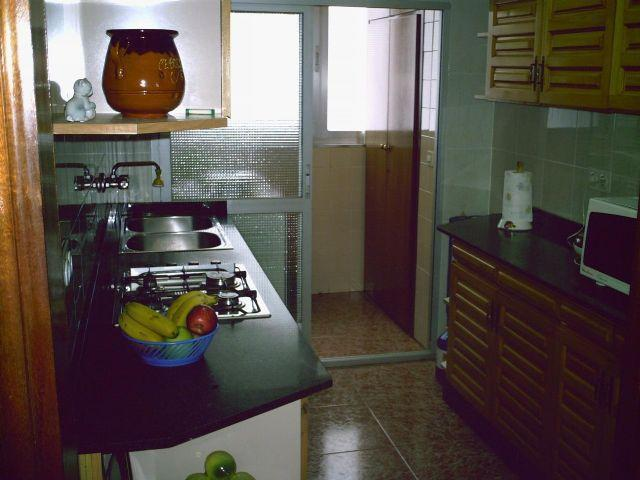Electrodomestico: (119, 260, 266, 318)
Lavaplatos: (104, 163, 233, 251)
